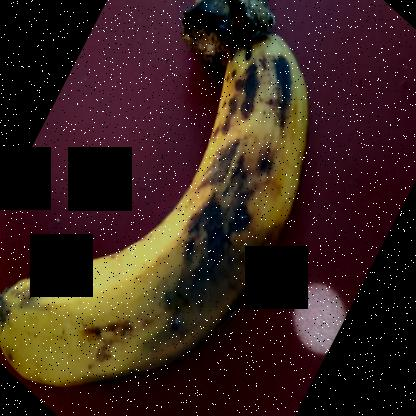rotten: (1, 41, 314, 386)
